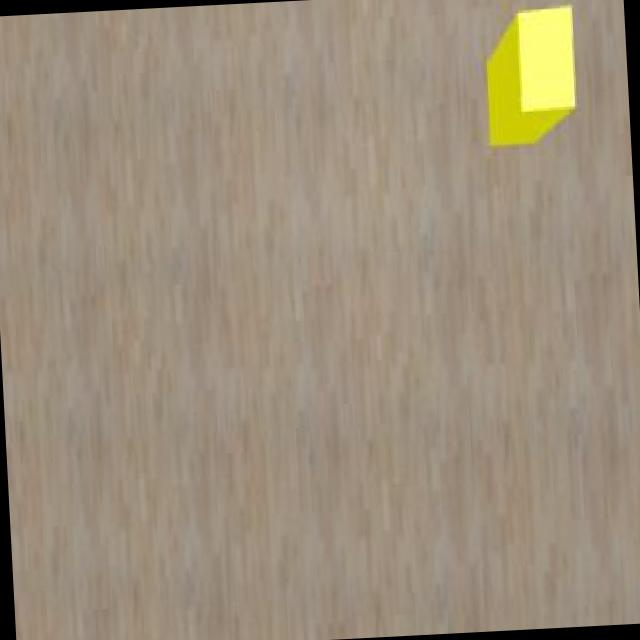cube-cAb5: (477, 0, 585, 155)
